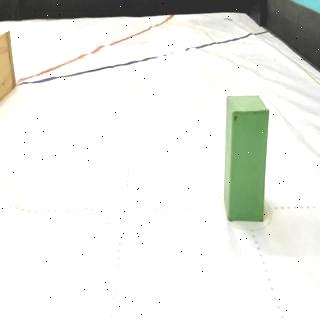greenbox: (224, 94, 269, 220)
